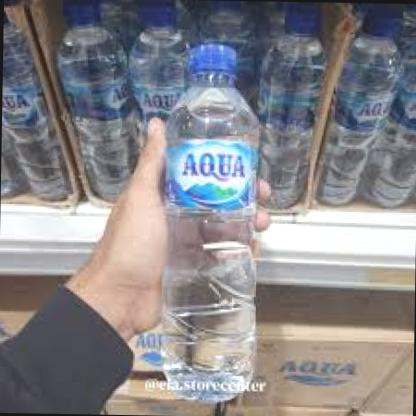plastic_bottles: (155, 43, 261, 402)
